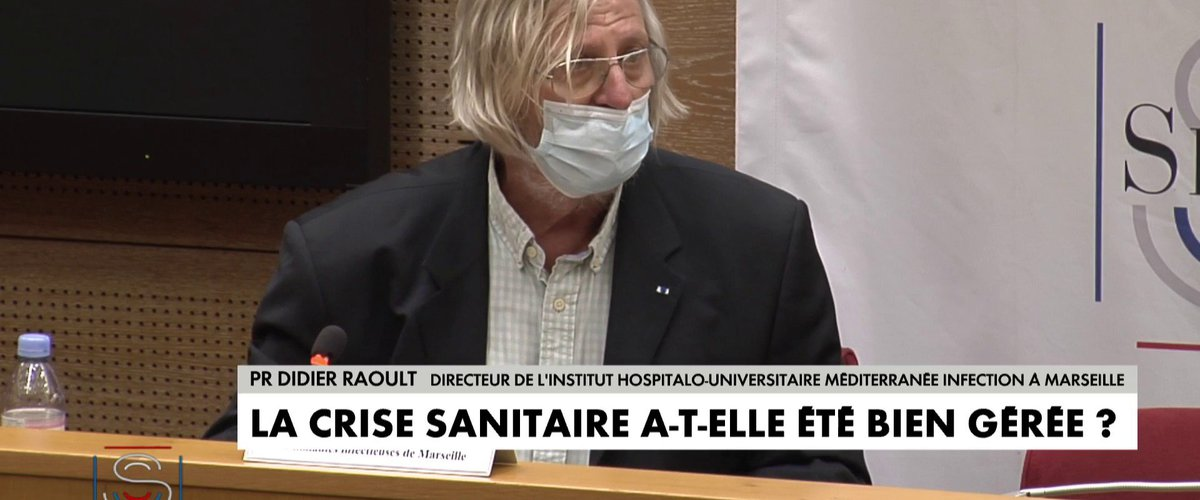with_incorrect_mask: (509, 37, 675, 197)
